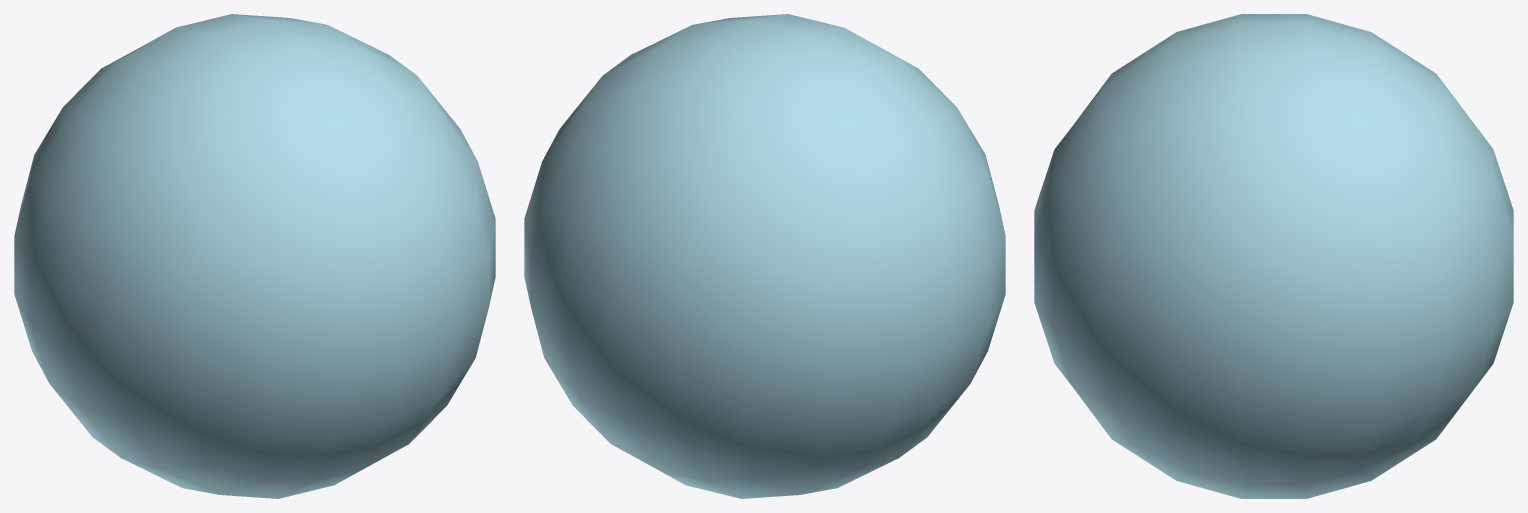
The model's file is BubbleBase.glb.
3 views of the same model, side by side, from view 1: azimuth 30°, elevation 25°; view 2: azimuth 150°, elevation 25°; view 3: azimuth 270°, elevation 25° (orthographic).
Parts seen in each view (by area): view 1: BubbleBase; view 2: BubbleBase; view 3: BubbleBase.
Boxes of the visible parts, x1=… form: BubbleBase: x1=14, y1=14, x2=495, y2=498; BubbleBase: x1=524, y1=14, x2=1005, y2=498; BubbleBase: x1=1034, y1=14, x2=1513, y2=498.
Size of the model in its own units: 2 by 2 by 2.
